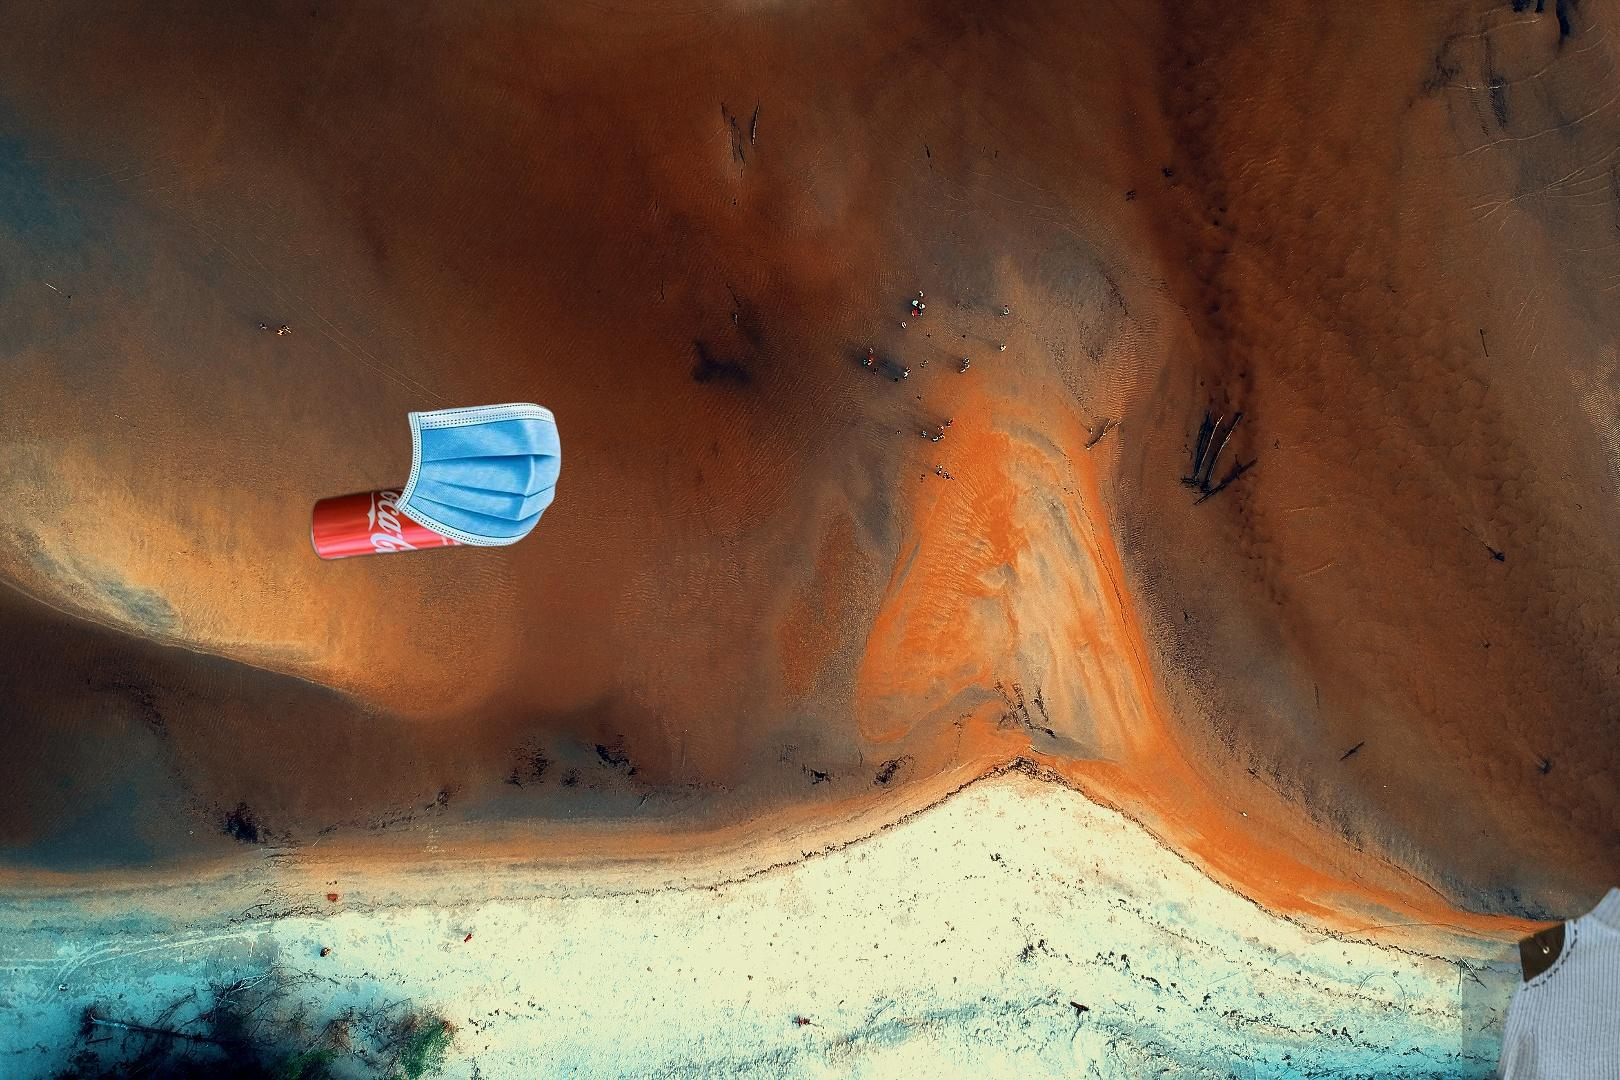clothes: (1462, 865, 1620, 1080)
metal-cans: (305, 472, 482, 567)
trash: (346, 399, 564, 550)
